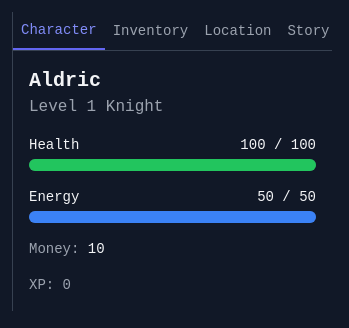
Scenario: Sidebar › switches to Inventory tab
This screenshot has width=349, height=328.
Click the button "Inventory": [150, 31] box top-left (105, 12), bottom-right (196, 50)
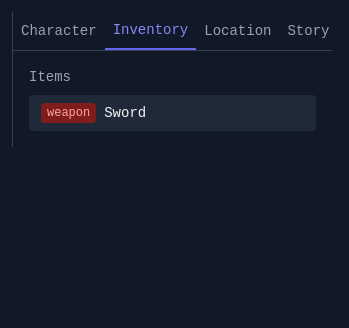
Expected: the text "Sword" is shown, top-left (104, 103), bottom-right (146, 123)
